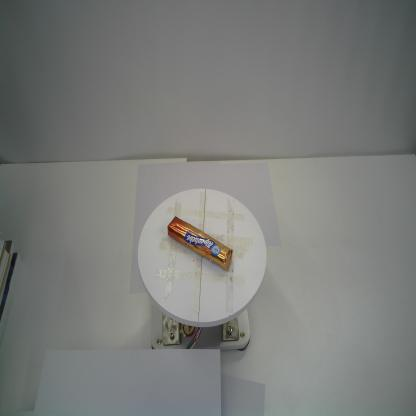Candy: (167, 215, 233, 272)
